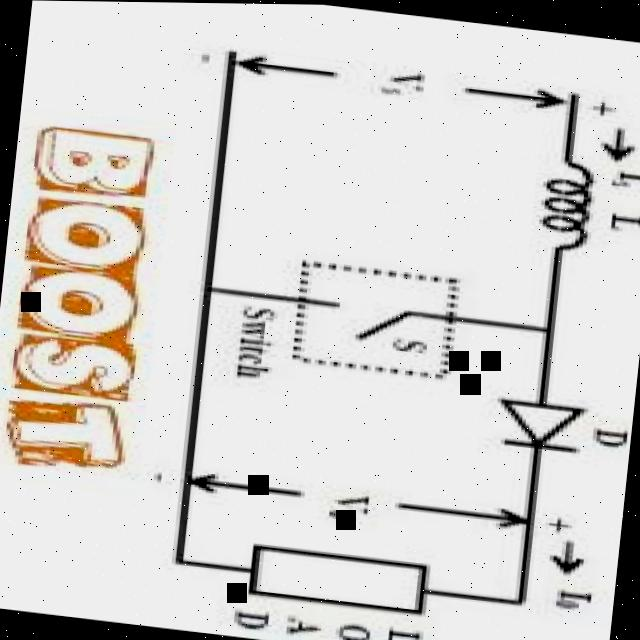diode: (476, 386, 604, 459)
inductor: (516, 144, 606, 266)
resistor: (228, 530, 454, 631)
switch: (275, 270, 440, 352)
